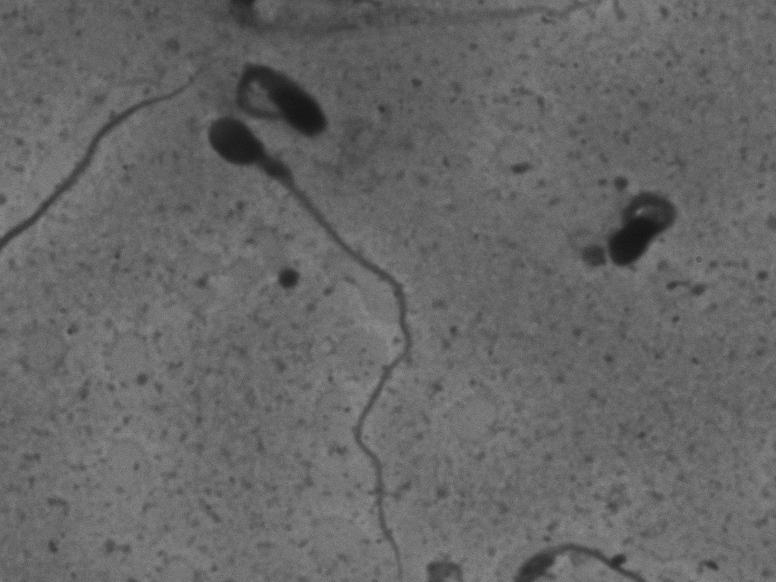Abnormal: (565, 146, 718, 291), (227, 47, 336, 151)
Normal: (197, 106, 434, 576)
